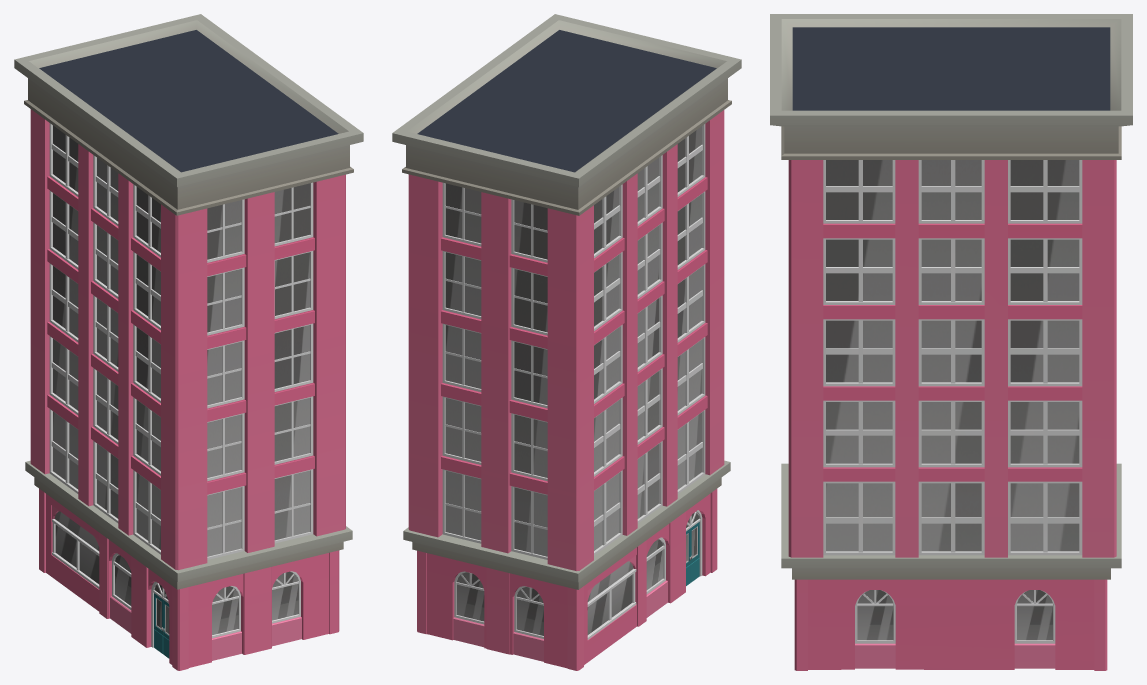
File: Building_27_H.fbx
3 renders of one model, left to right at view 1: azimuth 30°, elevation 25°; view 2: azimuth 150°, elevation 25°; view 3: azimuth 270°, elevation 25°, orthographic. The views are drawn at different scales.
Parts seen in each view (by area): view 1: Building_27_H; view 2: Building_27_H; view 3: Building_27_H.
Part boxes in pixels (x1=…): Building_27_H: x1=14, y1=14, x2=363, y2=670; Building_27_H: x1=392, y1=14, x2=741, y2=670; Building_27_H: x1=770, y1=14, x2=1132, y2=670.
Size of the model in its own units: 765 by 1974 by 1155.
